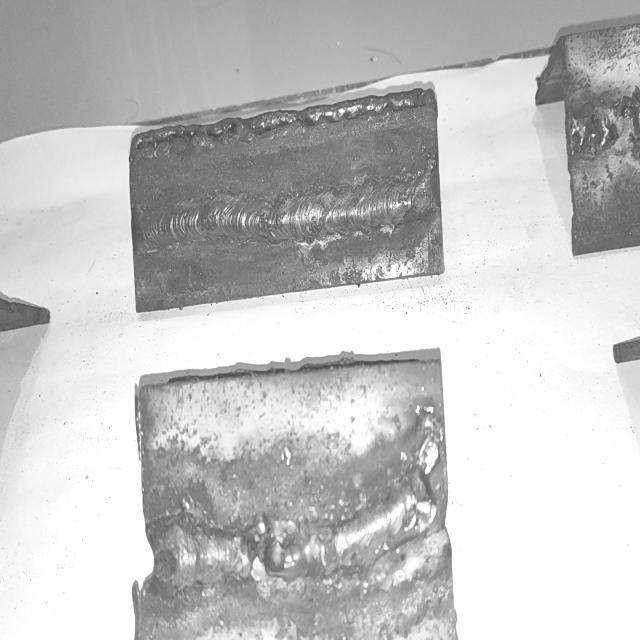Defect: (572, 92, 640, 163)
Welding Line: (150, 460, 444, 592), (134, 163, 436, 252)
Workpiece: (128, 354, 452, 640), (130, 84, 442, 317), (565, 14, 640, 251)
